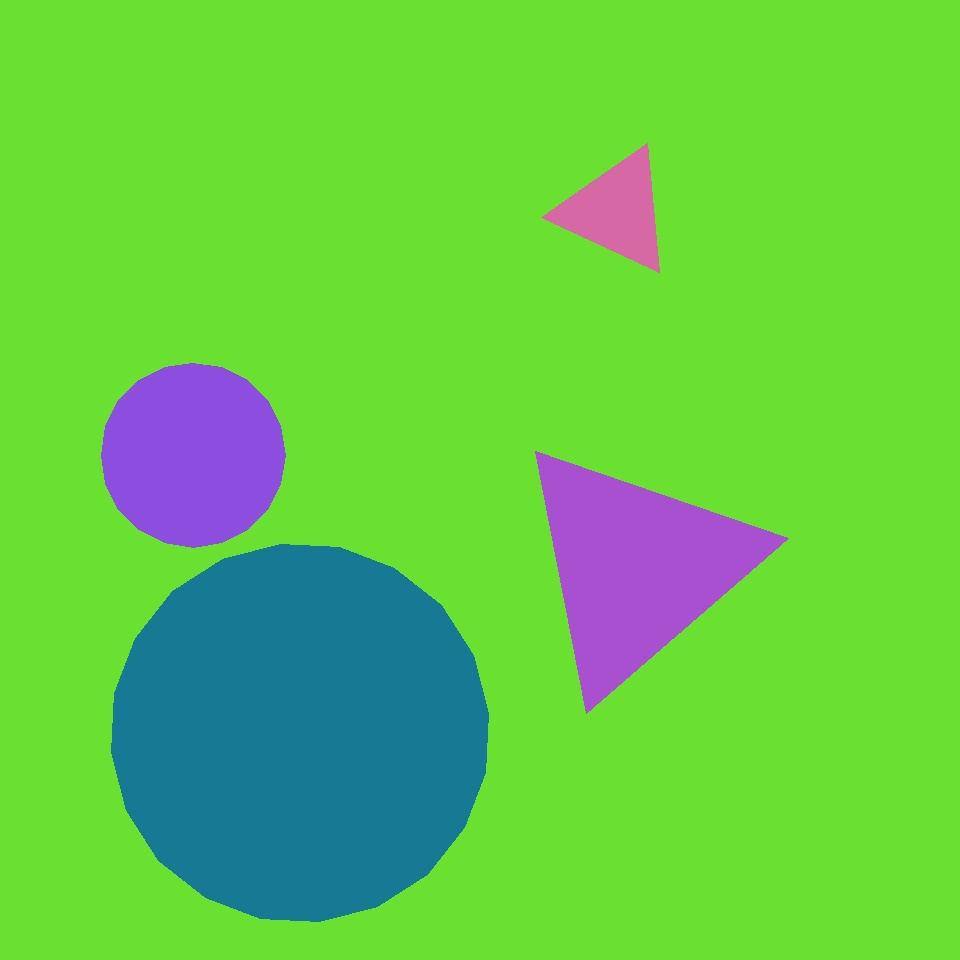circle: (605, 69, 916, 380), (510, 437, 764, 699), (557, 146, 675, 276)
square: (347, 491, 633, 777), (612, 600, 875, 863), (18, 468, 166, 615), (531, 431, 656, 556), (204, 233, 322, 350)
triangle: (112, 544, 488, 922), (101, 363, 285, 547)
